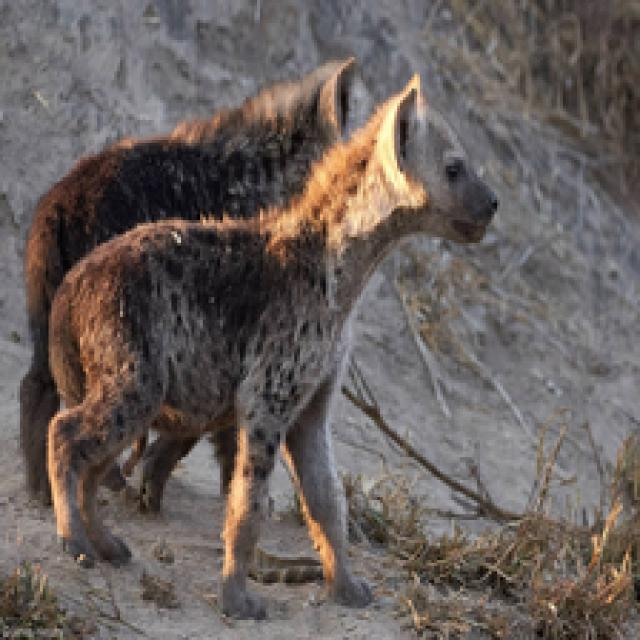hyena: (35, 78, 533, 567), (6, 46, 346, 320)
